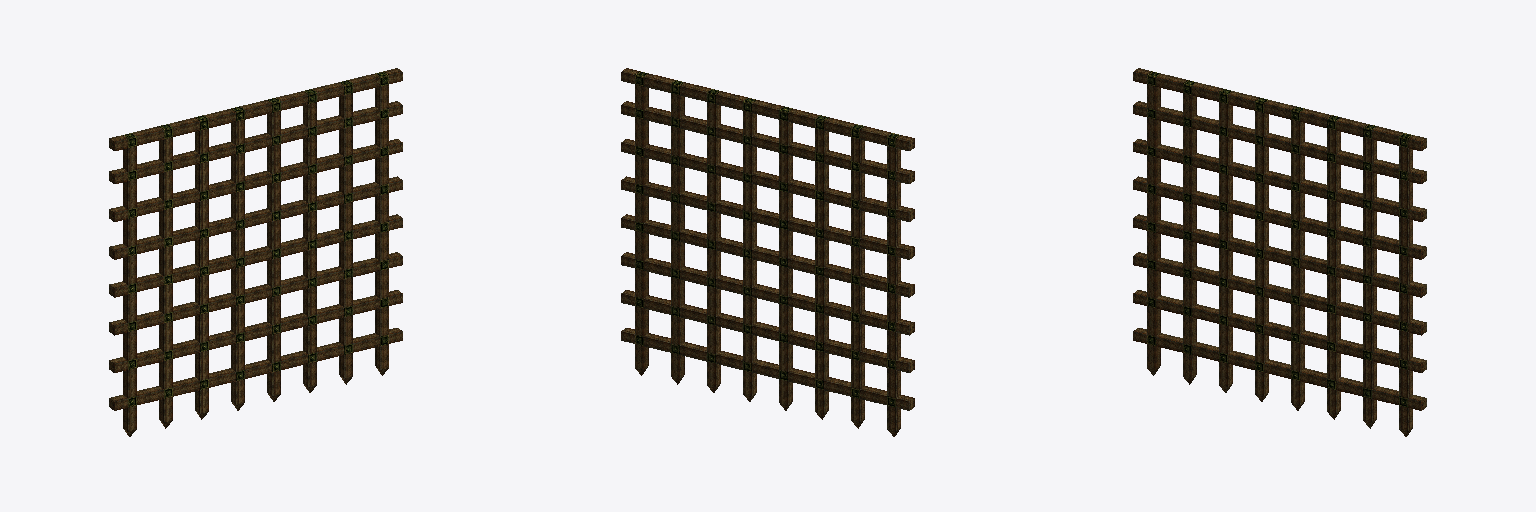
3 renders of one model, left to right at view 1: azimuth 30°, elevation 25°; view 2: azimuth 150°, elevation 25°; view 3: azimuth 330°, elevation 25°, orthographic.
Parts seen in each view (by area): view 1: Object001; view 2: Object001; view 3: Object001.
Part boxes in pixels (x1,y1,x2,y2): Object001: (109,68,402,436); Object001: (621,68,914,436); Object001: (1133,68,1426,436).
Size of the model in its own units: 4089 by 4096 by 128.
2 materials, 2 textured.